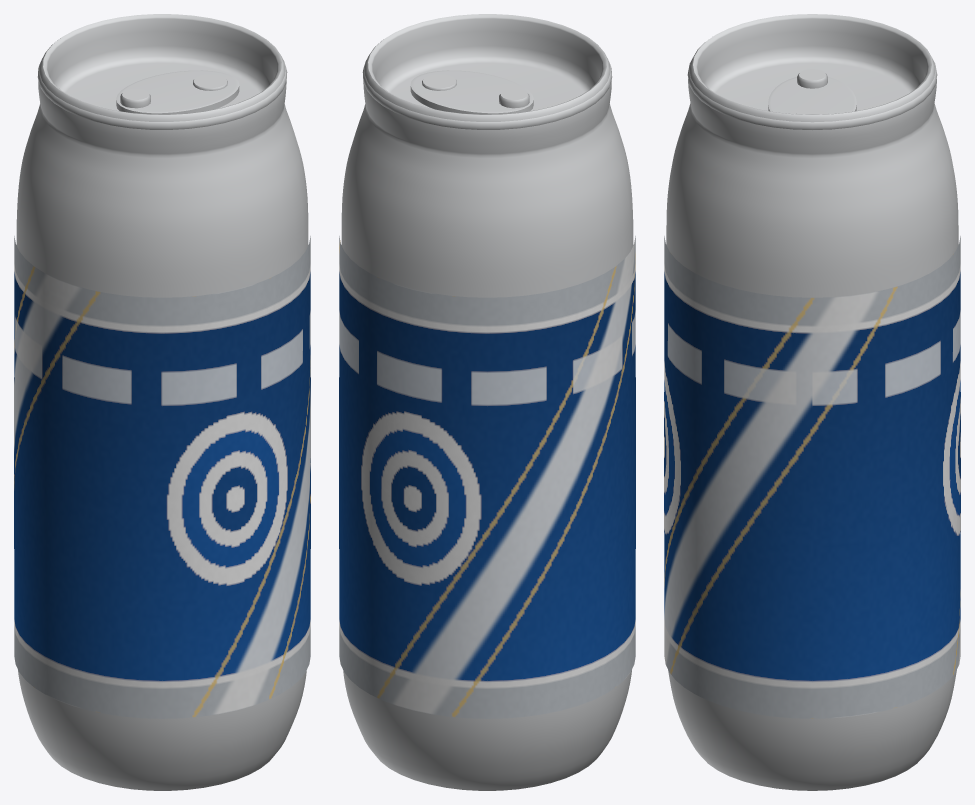
Rendered from lata_aluminio_slim.glb.
3 renders of one model, left to right at view 1: azimuth 30°, elevation 25°; view 2: azimuth 150°, elevation 25°; view 3: azimuth 270°, elevation 25°, orthographic.
Parts seen in each view (by area): view 1: lata_banda, lata_cuerpo, lata_anilla, lata_borde; view 2: lata_banda, lata_cuerpo, lata_anilla, lata_borde; view 3: lata_banda, lata_cuerpo, lata_anilla, lata_borde.
Part boxes in pixels (<box>): lata_banda: <box>14,236,310,718</box>; lata_cuerpo: <box>16,14,308,790</box>; lata_anilla: <box>116,70,239,114</box>; lata_borde: <box>37,58,287,129</box>; lata_banda: <box>339,236,635,718</box>; lata_cuerpo: <box>341,14,633,790</box>; lata_anilla: <box>410,70,533,114</box>; lata_borde: <box>362,58,612,129</box>; lata_banda: <box>664,236,960,718</box>; lata_cuerpo: <box>666,14,958,790</box>; lata_anilla: <box>768,69,856,114</box>; lata_borde: <box>687,62,937,129</box>.
Size of the model in its own units: 0.0536 by 0.1349 by 0.0536.
2 materials, 1 textured.
